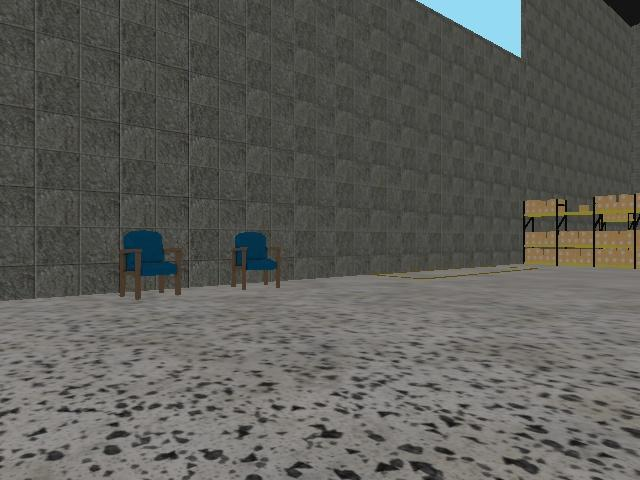chair: (118, 230, 183, 299), (231, 231, 281, 290)
